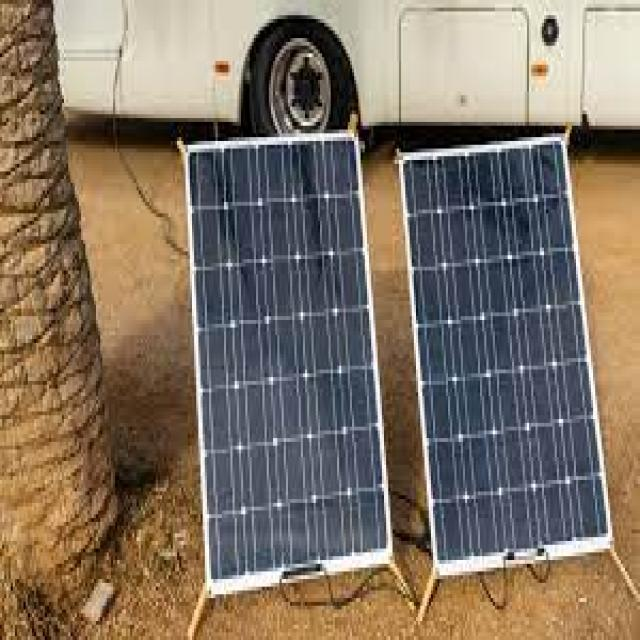no faulty: (408, 149, 607, 565), (196, 136, 372, 578)
